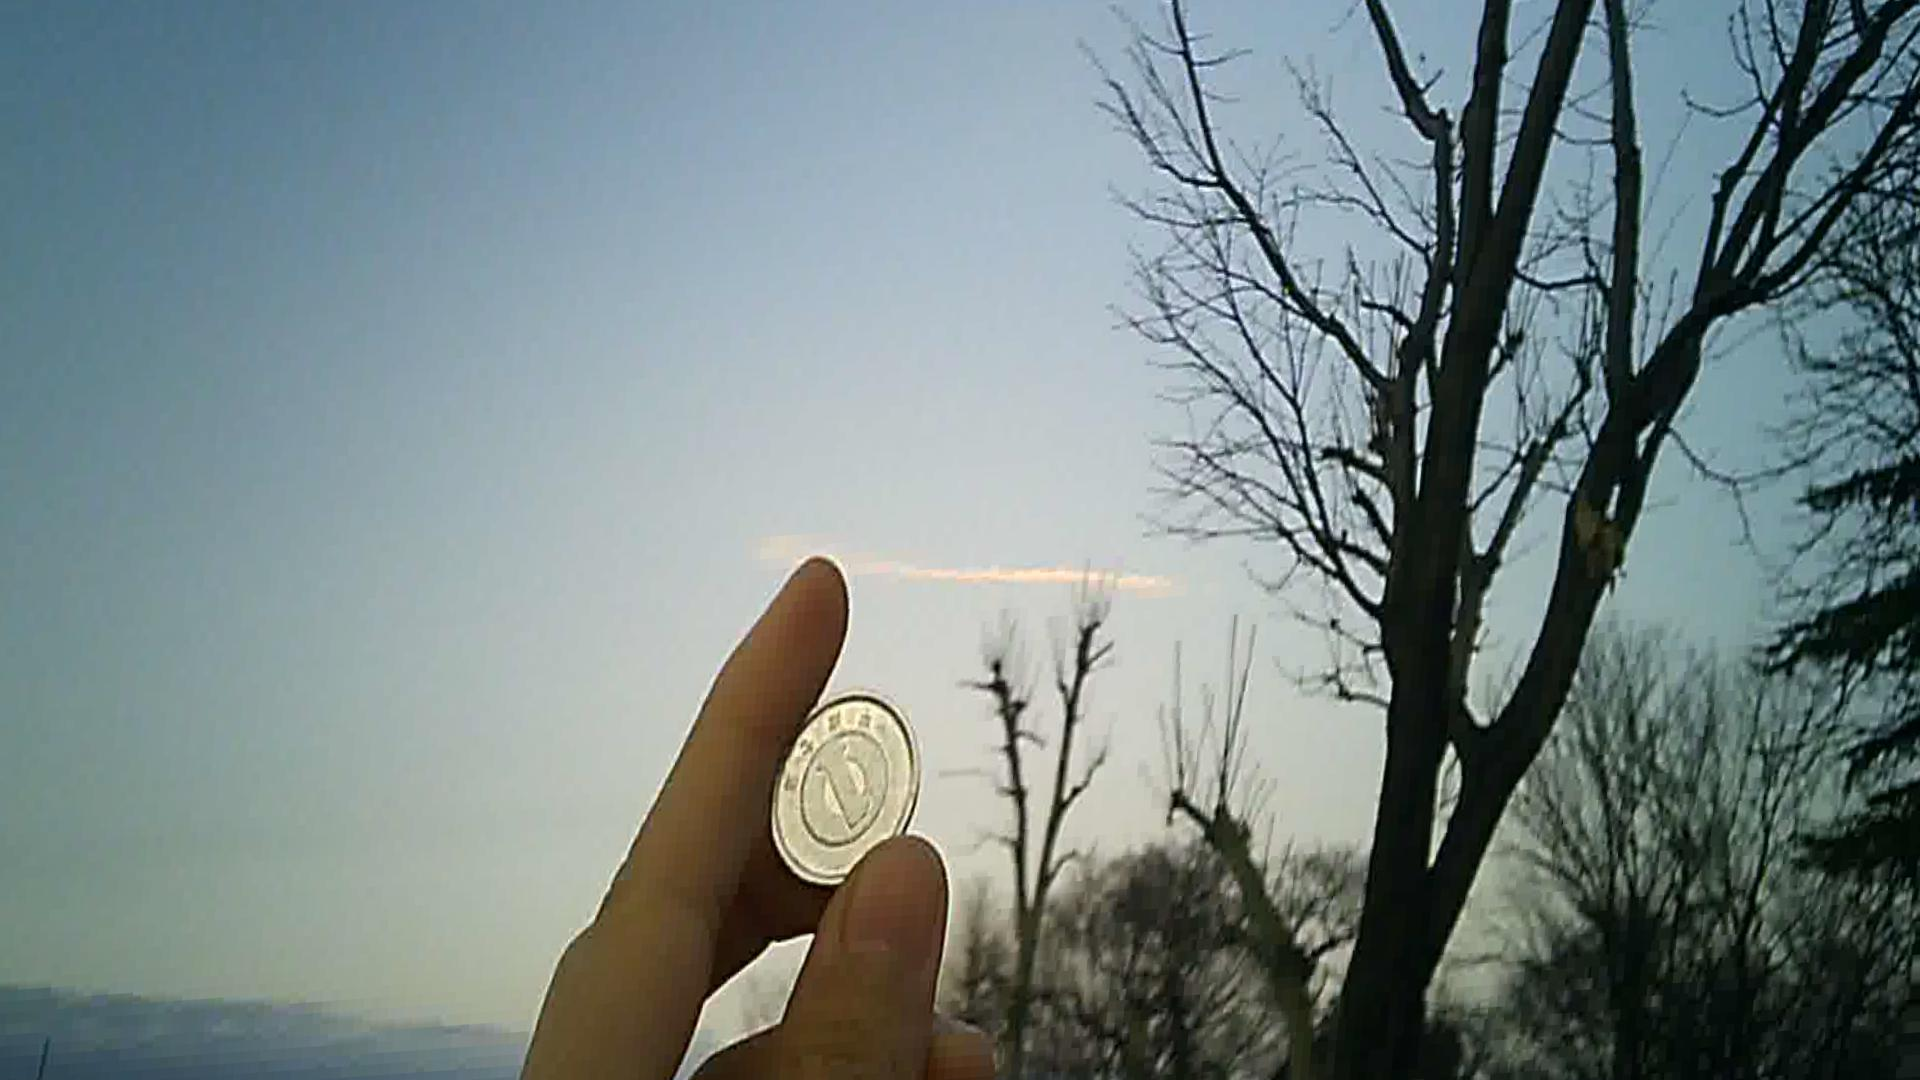1 Yen: (765, 695, 934, 884)
